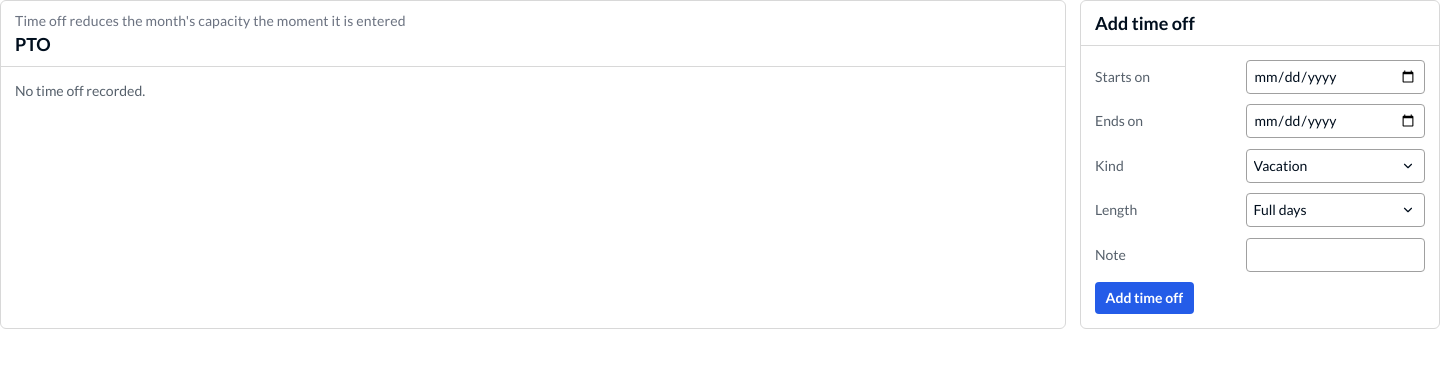
PtoTab › words invalid_range under the form
Check: the text "No time off recorded." is shown, box [15,82,145,99]
Step 1. Type "2026-10-06" into the date field labelled "Starts on" → (1335, 76), box [1246,60,1425,94]
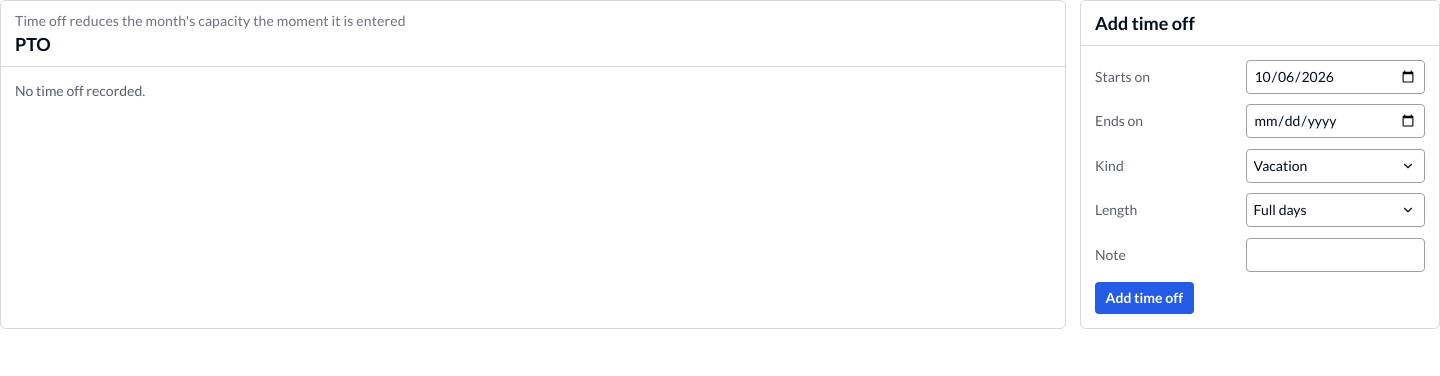
Step 2. Type "2026-10-05" into the date field labelled "Ends on" → (1335, 121), box [1246,104,1425,138]
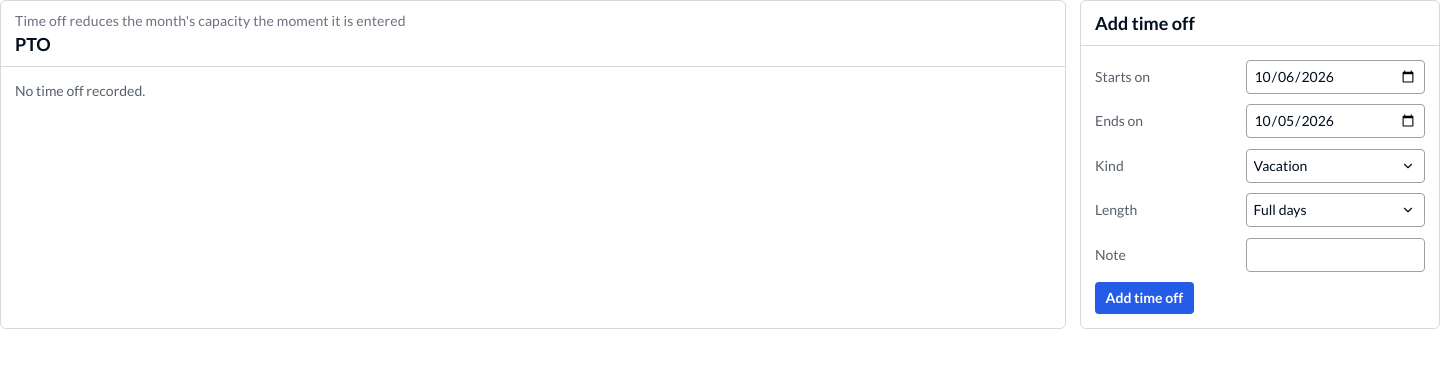
Step 3. Submit the form "Add time off", box [1095,60,1425,314]
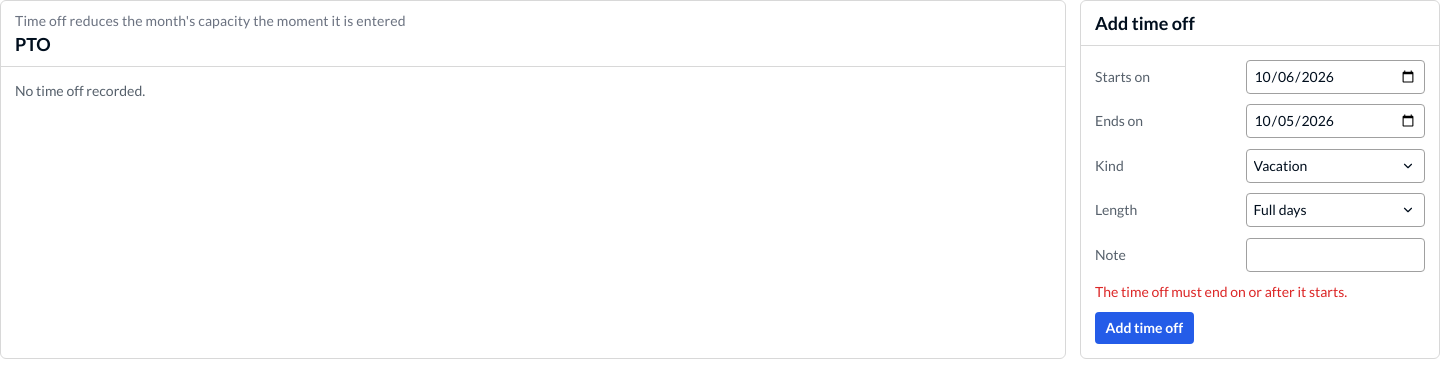
Check: the text "The time off must end on or after it starts." is shown, box [1095,283,1347,300]
